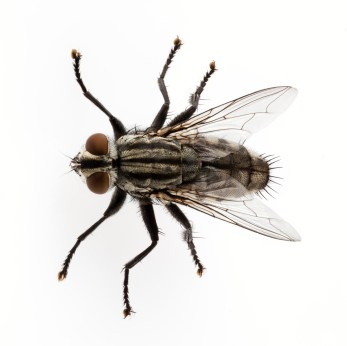phorid fly: (29, 31, 318, 325)
